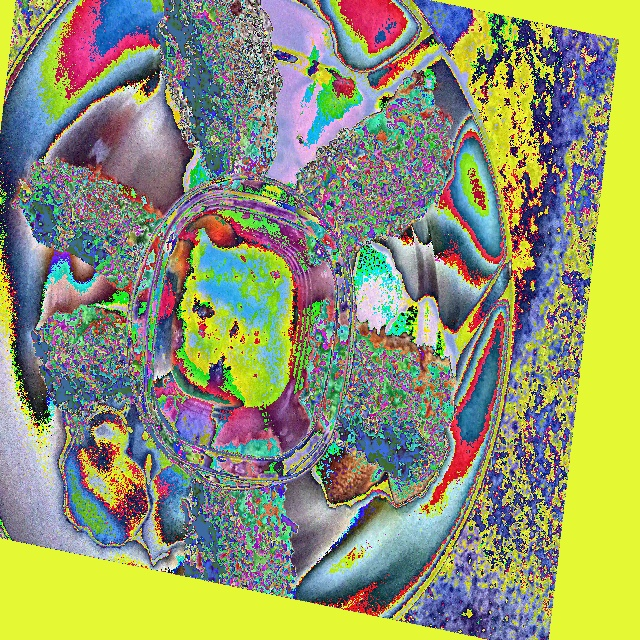background: (160, 185, 457, 484), (120, 172, 299, 599), (160, 66, 453, 266), (31, 109, 145, 413), (136, 196, 299, 408), (128, 0, 283, 191), (12, 145, 168, 302)
